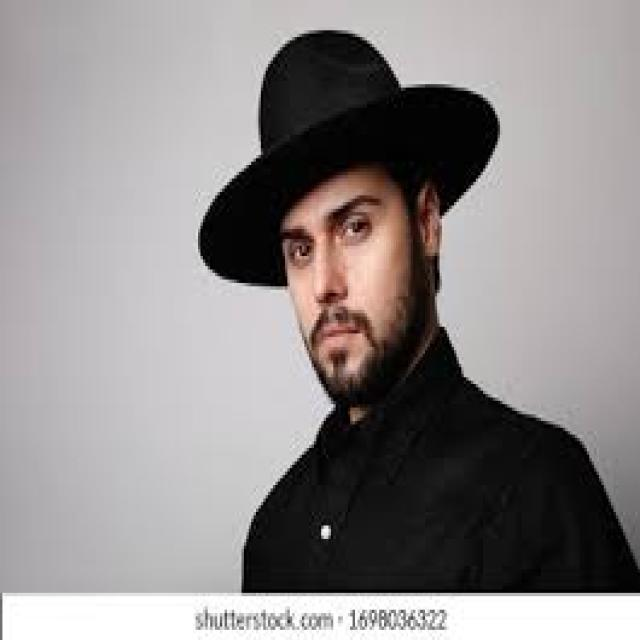hat: (196, 24, 502, 411)
